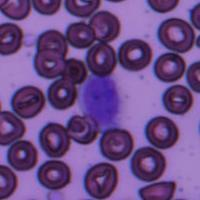L: (78, 75, 127, 127)
